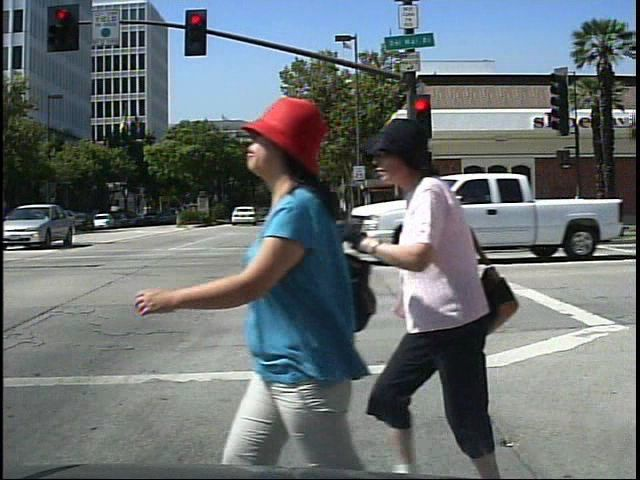person: (139, 63, 383, 475), (368, 116, 536, 480)
